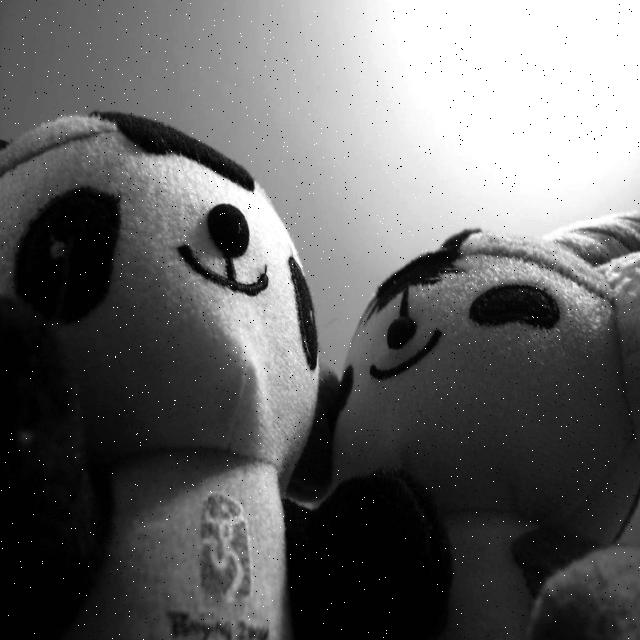panda: (1, 106, 327, 638)
